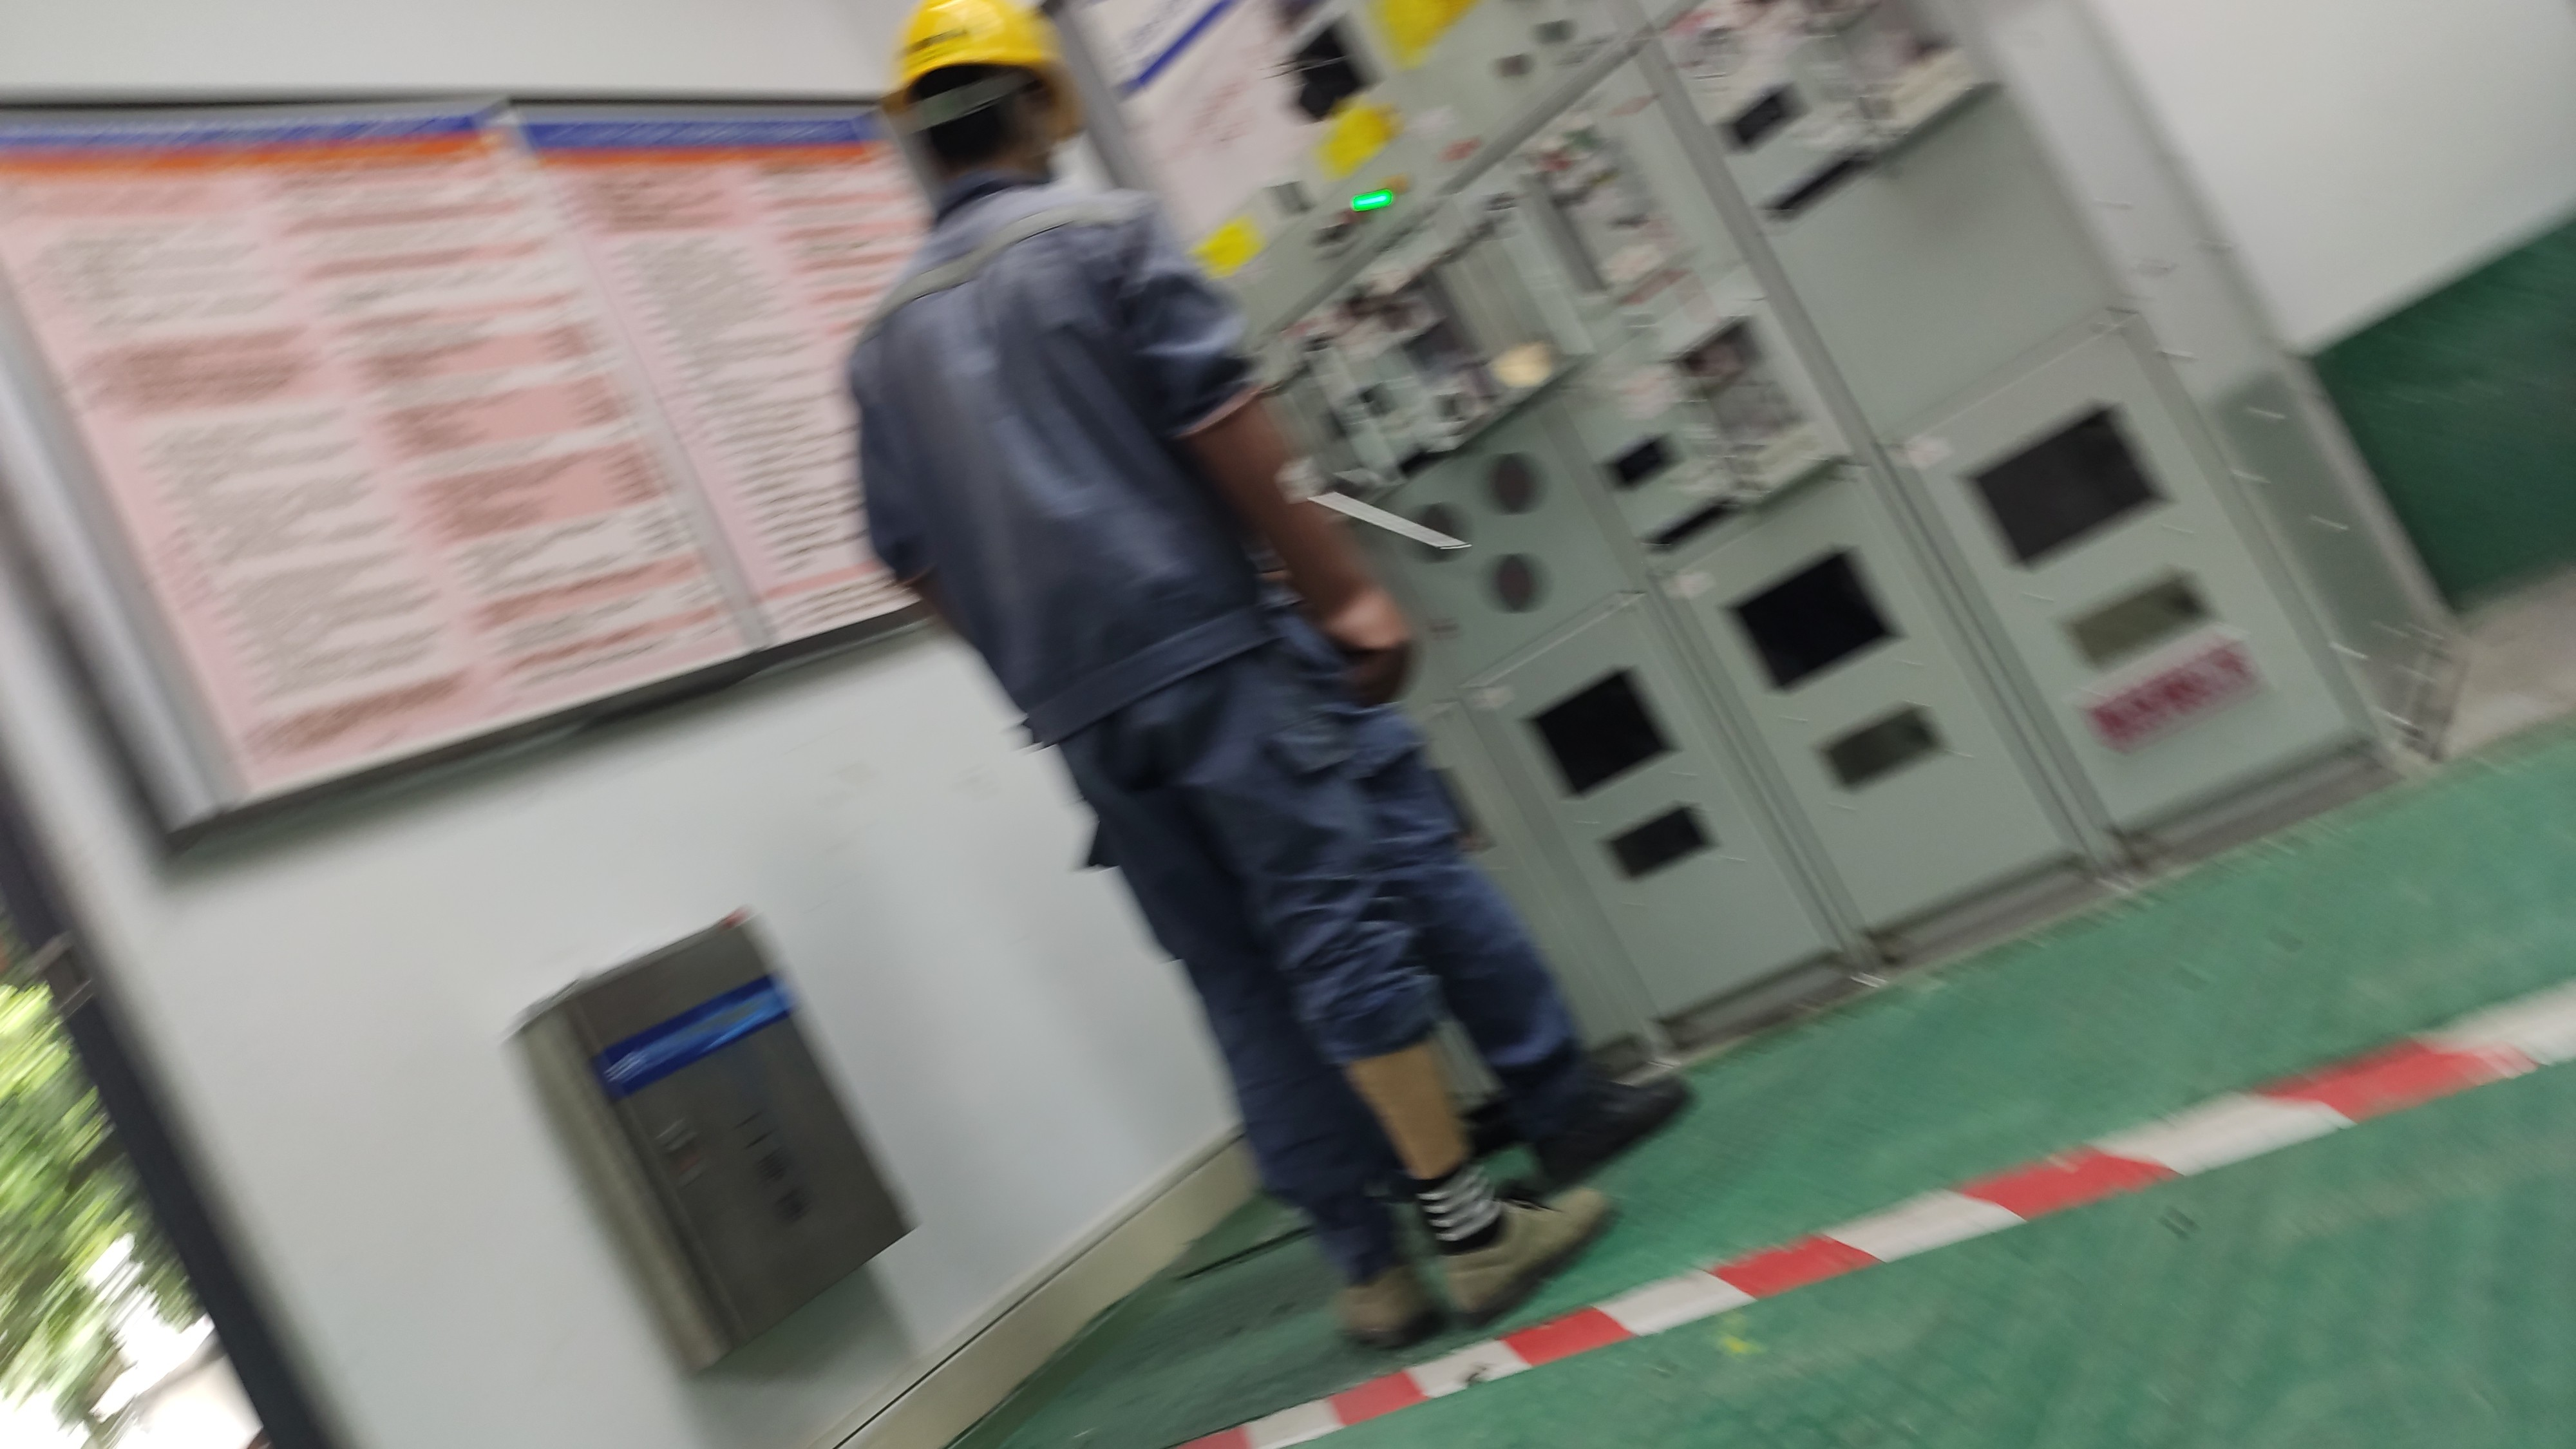downsuit: (1063, 678, 1582, 1240)
upsuit: (846, 182, 1284, 676)
wrongbottom: (1330, 1012, 1499, 1215)
